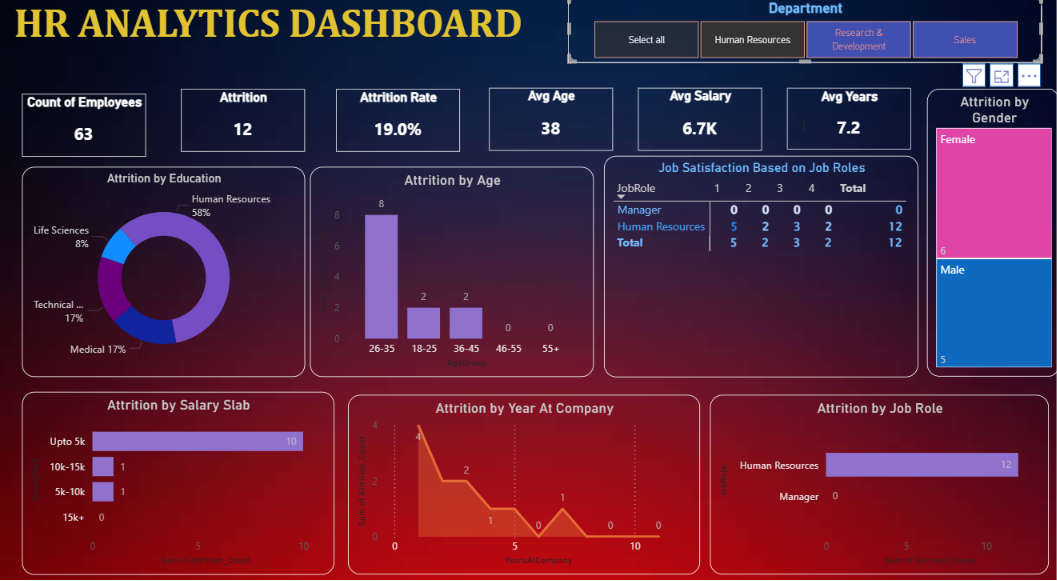

Layout of this report page (visuals, bound fields, positions):
{"tool":"powerbi","page":{"name":"Page 1","canvas":[1280,720],"ordinal":0},"visuals":[{"type":"cardVisual","title":"Avg Age","fields":{"Data":["Avg(HR_Analytics.Age)"]},"box":[589.9,119.4,149.6,76],"z":0},{"type":"cardVisual","title":"Attrition","fields":{"Data":["Sum(HR_Analytics.Attrition_Count)"]},"box":[218.4,120.6,149.6,76],"z":1000},{"type":"cardVisual","title":"Attrition Rate","fields":{"Data":["HR_Analytics.Attrition_Rate"]},"box":[405.4,120.6,149.6,76],"z":2000},{"type":"cardVisual","title":"Count of Employees","fields":{"Data":["CountNonNull(HR_Analytics.EmpID)"]},"box":[26.5,126.7,149.6,76],"z":3000},{"type":"cardVisual","title":"Avg Salary","fields":{"Data":["Avg(HR_Analytics.MonthlyIncome)"]},"box":[769.7,119.4,149.6,76],"z":4000},{"type":"cardVisual","title":"Avg Years","fields":{"Data":["Avg(HR_Analytics.YearsAtCompany)"]},"box":[949.5,119.4,149.6,74.8],"z":5000},{"type":"donutChart","title":"Attrition by Education","fields":{"Category":["HR_Analytics.EducationField"],"Y":["Sum(HR_Analytics.Attrition_Count)"]},"box":[26.5,214.7,341.4,253.4],"z":6000},{"type":"columnChart","title":"Attrition by Age","fields":{"Category":["HR_Analytics.AgeGroup"],"Y":["Sum(HR_Analytics.Attrition_Count)"]},"box":[374,214.7,342.6,253.4],"z":7000},{"type":"pivotTable","title":"Job Satisfaction Based on Job Roles","fields":{"Rows":["HR_Analytics.JobRole"],"Columns":["HR_Analytics.JobSatisfaction"],"Values":["Sum(HR_Analytics.Attrition_Count)"]},"box":[729.2,201.2,379.6,266.8],"z":8000},{"type":"barChart","title":"Attrition by Salary Slab","fields":{"Category":["HR_Analytics.SalarySlab"],"Y":["Sum(HR_Analytics.Attrition_Count)"]},"box":[26.5,486.2,376.4,220.8],"z":9000},{"type":"barChart","title":"Attrition by Job Role","fields":{"Y":["Sum(HR_Analytics.Attrition_Count)"],"Category":["HR_Analytics.JobRole"]},"box":[856.6,489.8,409,217.2],"z":10000},{"type":"areaChart","title":"Attrition by Year At Company","fields":{"Category":["HR_Analytics.YearsAtCompany"],"Y":["Sum(HR_Analytics.Attrition_Count)"]},"box":[419.8,489.8,424.7,217.2],"z":11000},{"type":"treemap","title":"Attrition by Gender","fields":{"Values":["Sum(HR_Analytics.Attrition_Count)"],"Group":["HR_Analytics.Gender"]},"box":[1118.4,120.6,161.7,347.5],"z":12000},{"type":"slicer","title":"Department","fields":{"Values":["HR_Analytics.Department"]},"box":[685.3,7.2,571.9,82],"z":13000},{"type":"textbox","box":[12.1,7.2,673.2,100.1],"z":14000}]}

Visuals, with their boxes in screenshot pixels (x1, y1, x2, y2), scaled from the page's 1280x720 canvas onto the 1057x581 screenshot:
"Avg Age" cardVisual: pyautogui.locateOnScreen(487, 96, 611, 158)
"Attrition" cardVisual: pyautogui.locateOnScreen(180, 97, 304, 159)
"Attrition Rate" cardVisual: pyautogui.locateOnScreen(335, 97, 458, 159)
"Count of Employees" cardVisual: pyautogui.locateOnScreen(22, 102, 145, 164)
"Avg Salary" cardVisual: pyautogui.locateOnScreen(636, 96, 759, 158)
"Avg Years" cardVisual: pyautogui.locateOnScreen(784, 96, 908, 157)
"Attrition by Education" donutChart: pyautogui.locateOnScreen(22, 173, 304, 378)
"Attrition by Age" columnChart: pyautogui.locateOnScreen(309, 173, 592, 378)
"Job Satisfaction Based on Job Roles" pivotTable: pyautogui.locateOnScreen(602, 162, 916, 378)
"Attrition by Salary Slab" barChart: pyautogui.locateOnScreen(22, 392, 333, 571)
"Attrition by Job Role" barChart: pyautogui.locateOnScreen(707, 395, 1045, 571)
"Attrition by Year At Company" areaChart: pyautogui.locateOnScreen(347, 395, 697, 571)
"Attrition by Gender" treemap: pyautogui.locateOnScreen(924, 97, 1056, 378)
"Department" slicer: pyautogui.locateOnScreen(566, 6, 1038, 72)
textbox: pyautogui.locateOnScreen(10, 6, 566, 87)
